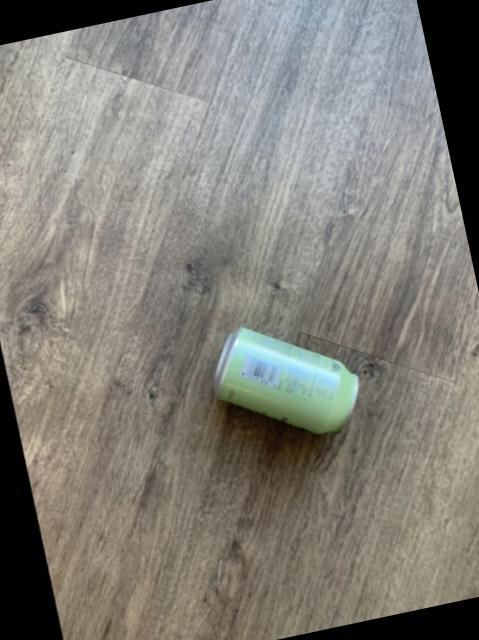metal: (215, 328, 359, 433)
